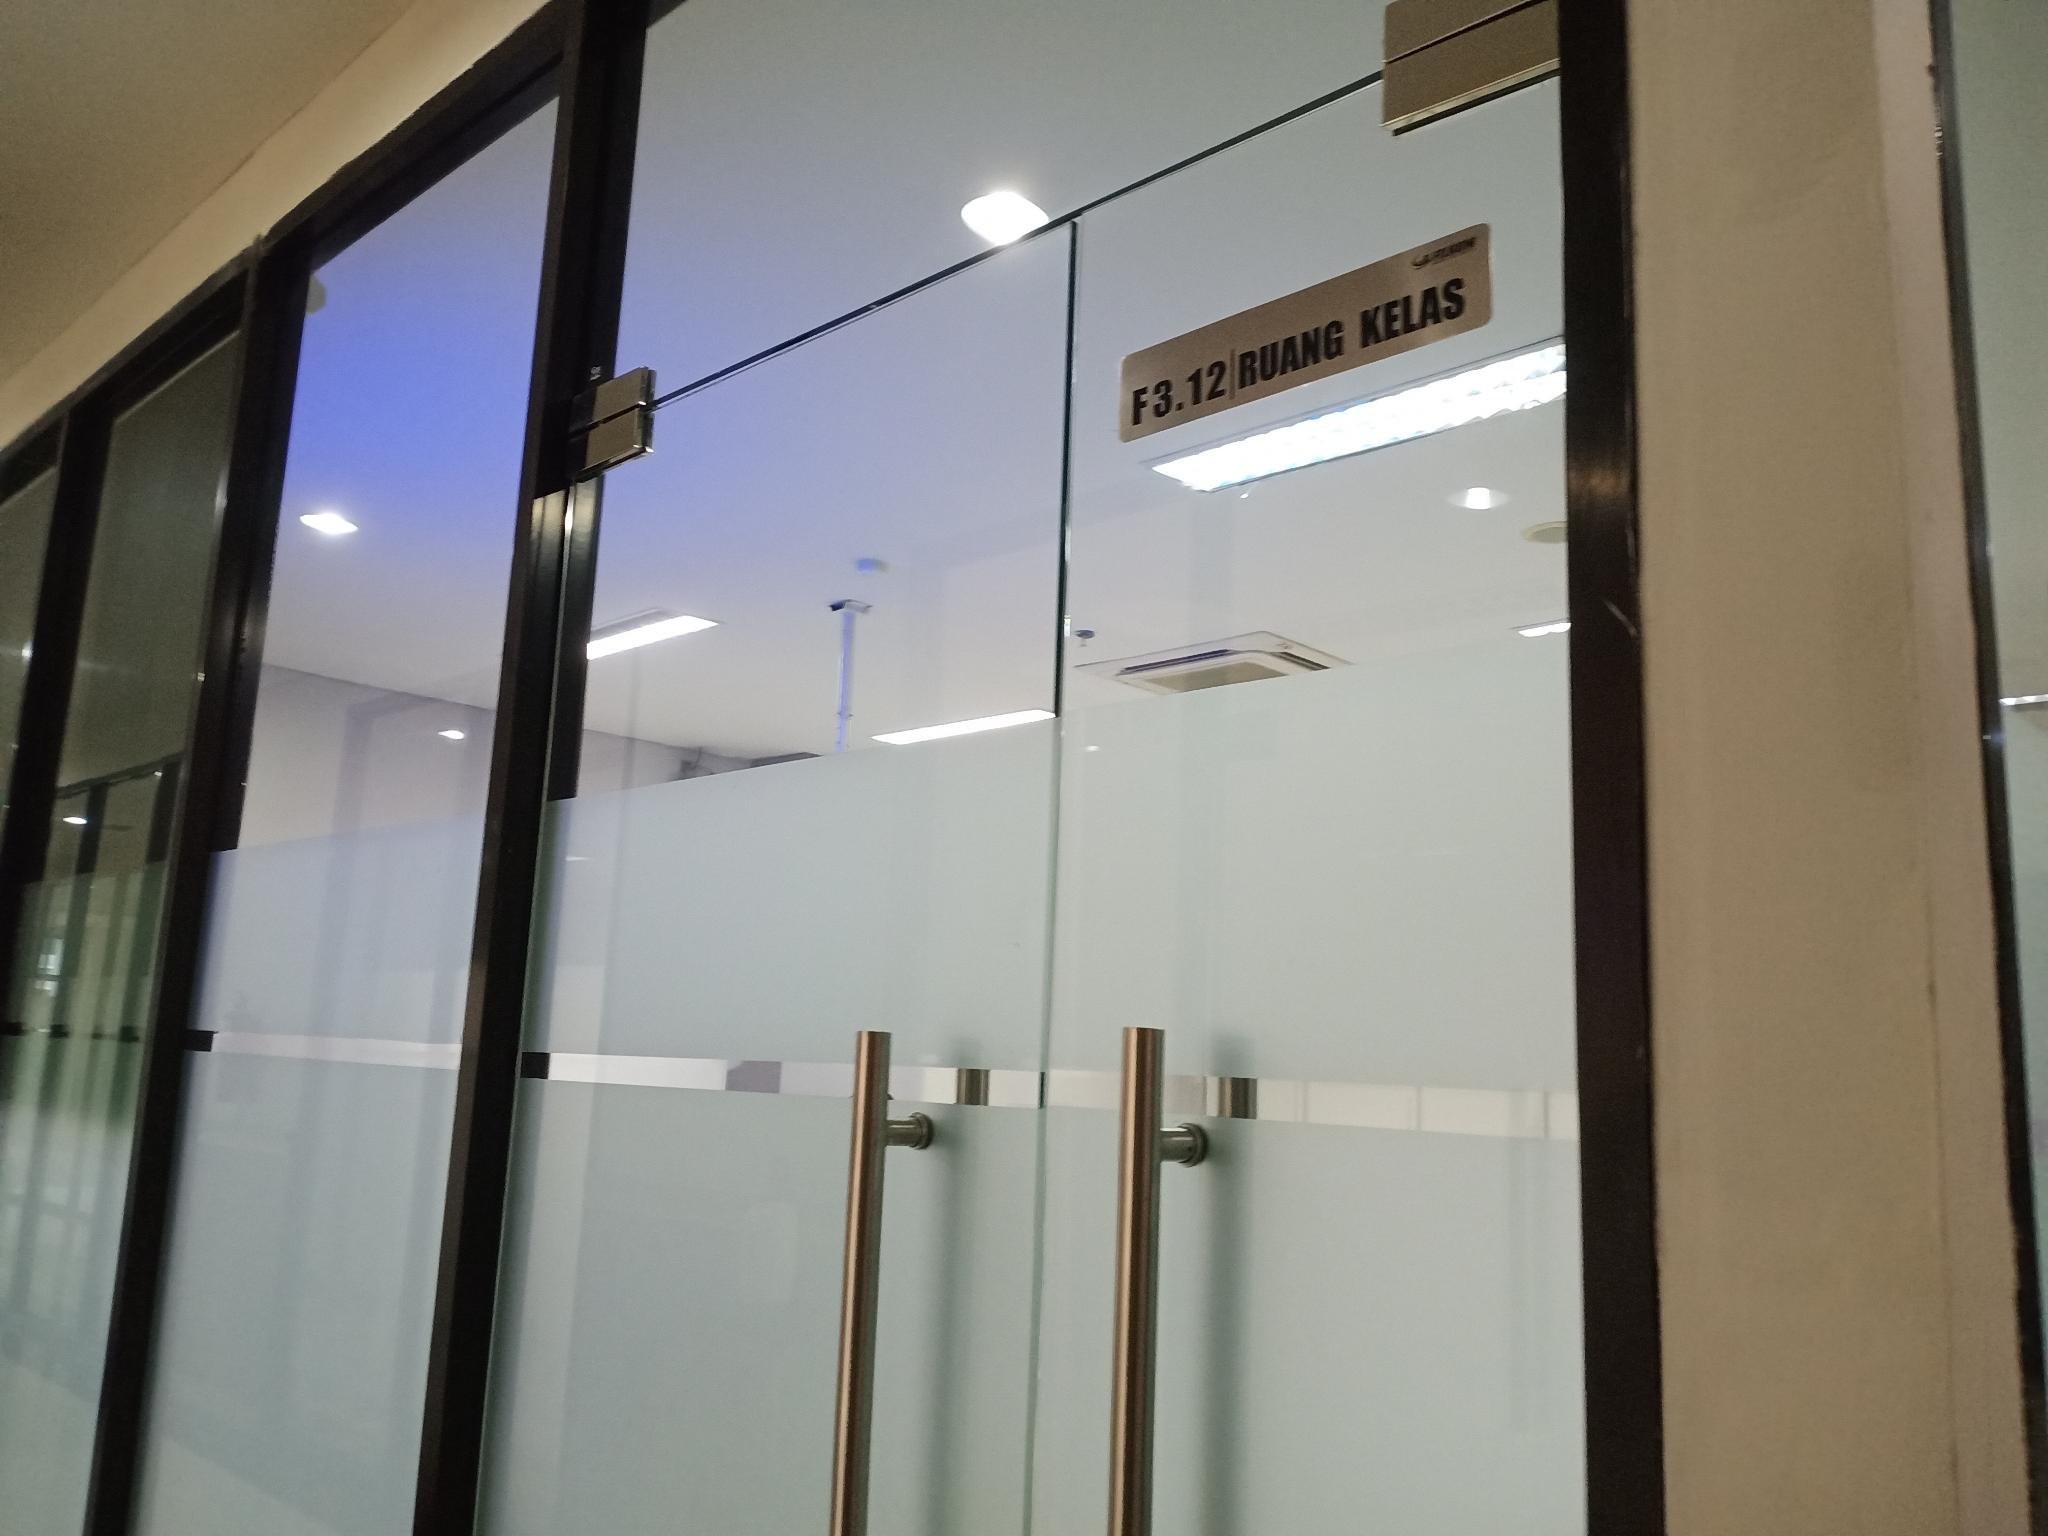plate: (1121, 223, 1493, 442)
